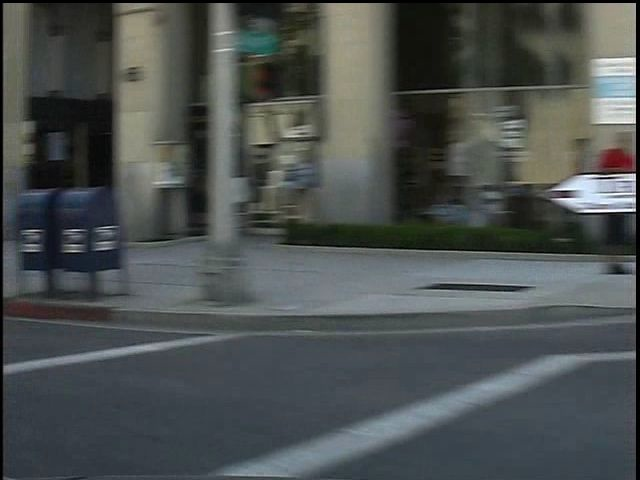person: (573, 119, 617, 282)
